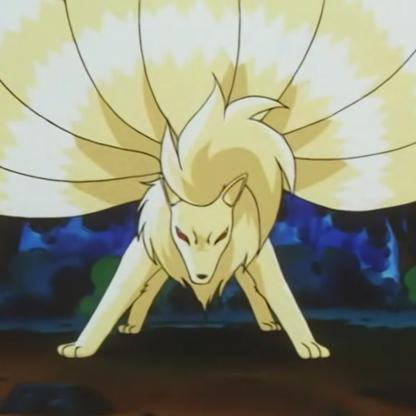Ninetales: (1, 1, 416, 366)
